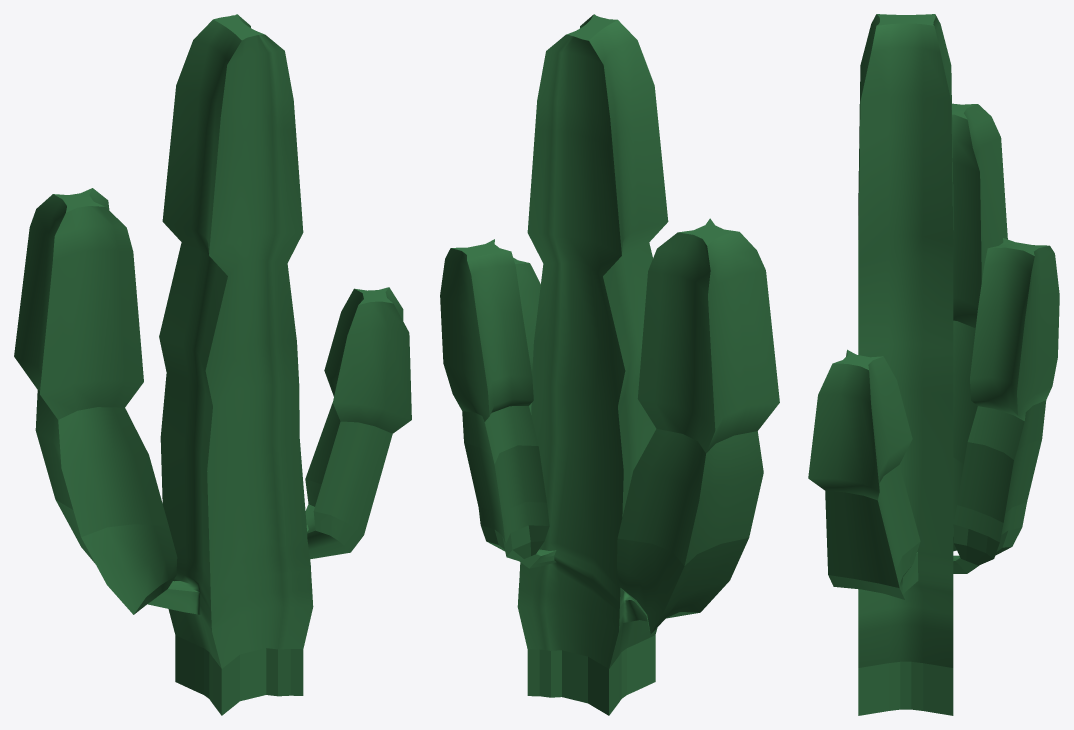
The model's file is newCowboyCactus.fbx.
3 views of the same model, side by side, from view 1: azimuth 30°, elevation 25°; view 2: azimuth 150°, elevation 25°; view 3: azimuth 270°, elevation 25° (orthographic). The views are drawn at different scales.
Parts seen in each view (by area): view 1: cowboyCactusTexture:pCube7; view 2: cowboyCactusTexture:pCube7; view 3: cowboyCactusTexture:pCube7.
Part boxes in pixels (x1,y1,x2,y2): cowboyCactusTexture:pCube7: (14,14,411,715); cowboyCactusTexture:pCube7: (440,14,779,715); cowboyCactusTexture:pCube7: (808,14,1059,715).
Size of the model in its own units: 3.84 by 7.04 by 2.38.
